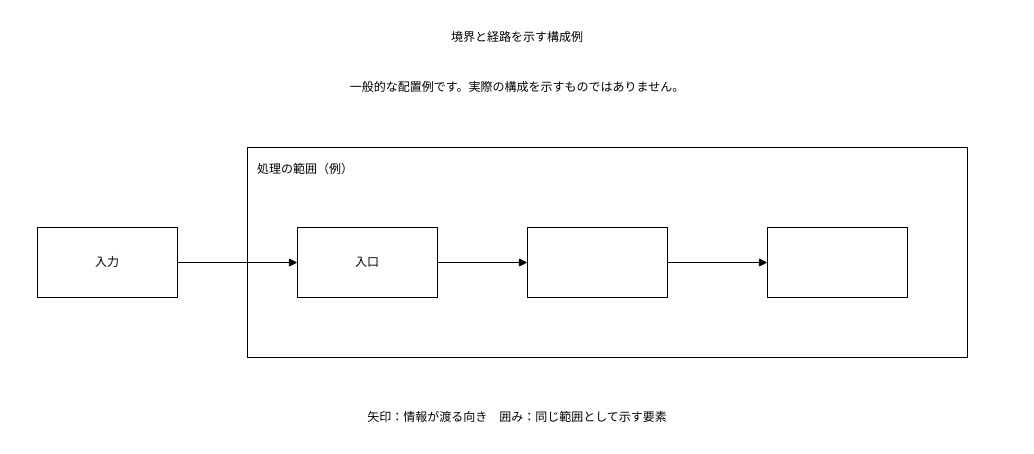
Some shapes in this 1034 by 454 pixel diagram are drawn without their labels. Each missing label, with the centre of its shape:
保存: the point at 837,262
処理: the point at 597,262
